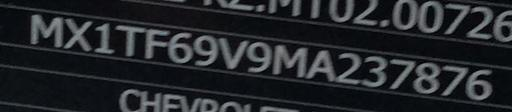letter: (28, 9, 64, 50), (270, 42, 310, 78), (112, 20, 146, 60), (215, 34, 249, 72), (62, 14, 94, 53), (438, 60, 470, 97), (304, 48, 338, 82), (190, 33, 222, 69), (357, 52, 389, 88), (463, 64, 495, 99), (333, 48, 363, 85), (142, 25, 168, 66), (411, 59, 441, 94), (388, 53, 416, 90), (244, 39, 274, 73), (166, 29, 194, 65), (92, 21, 116, 54)
